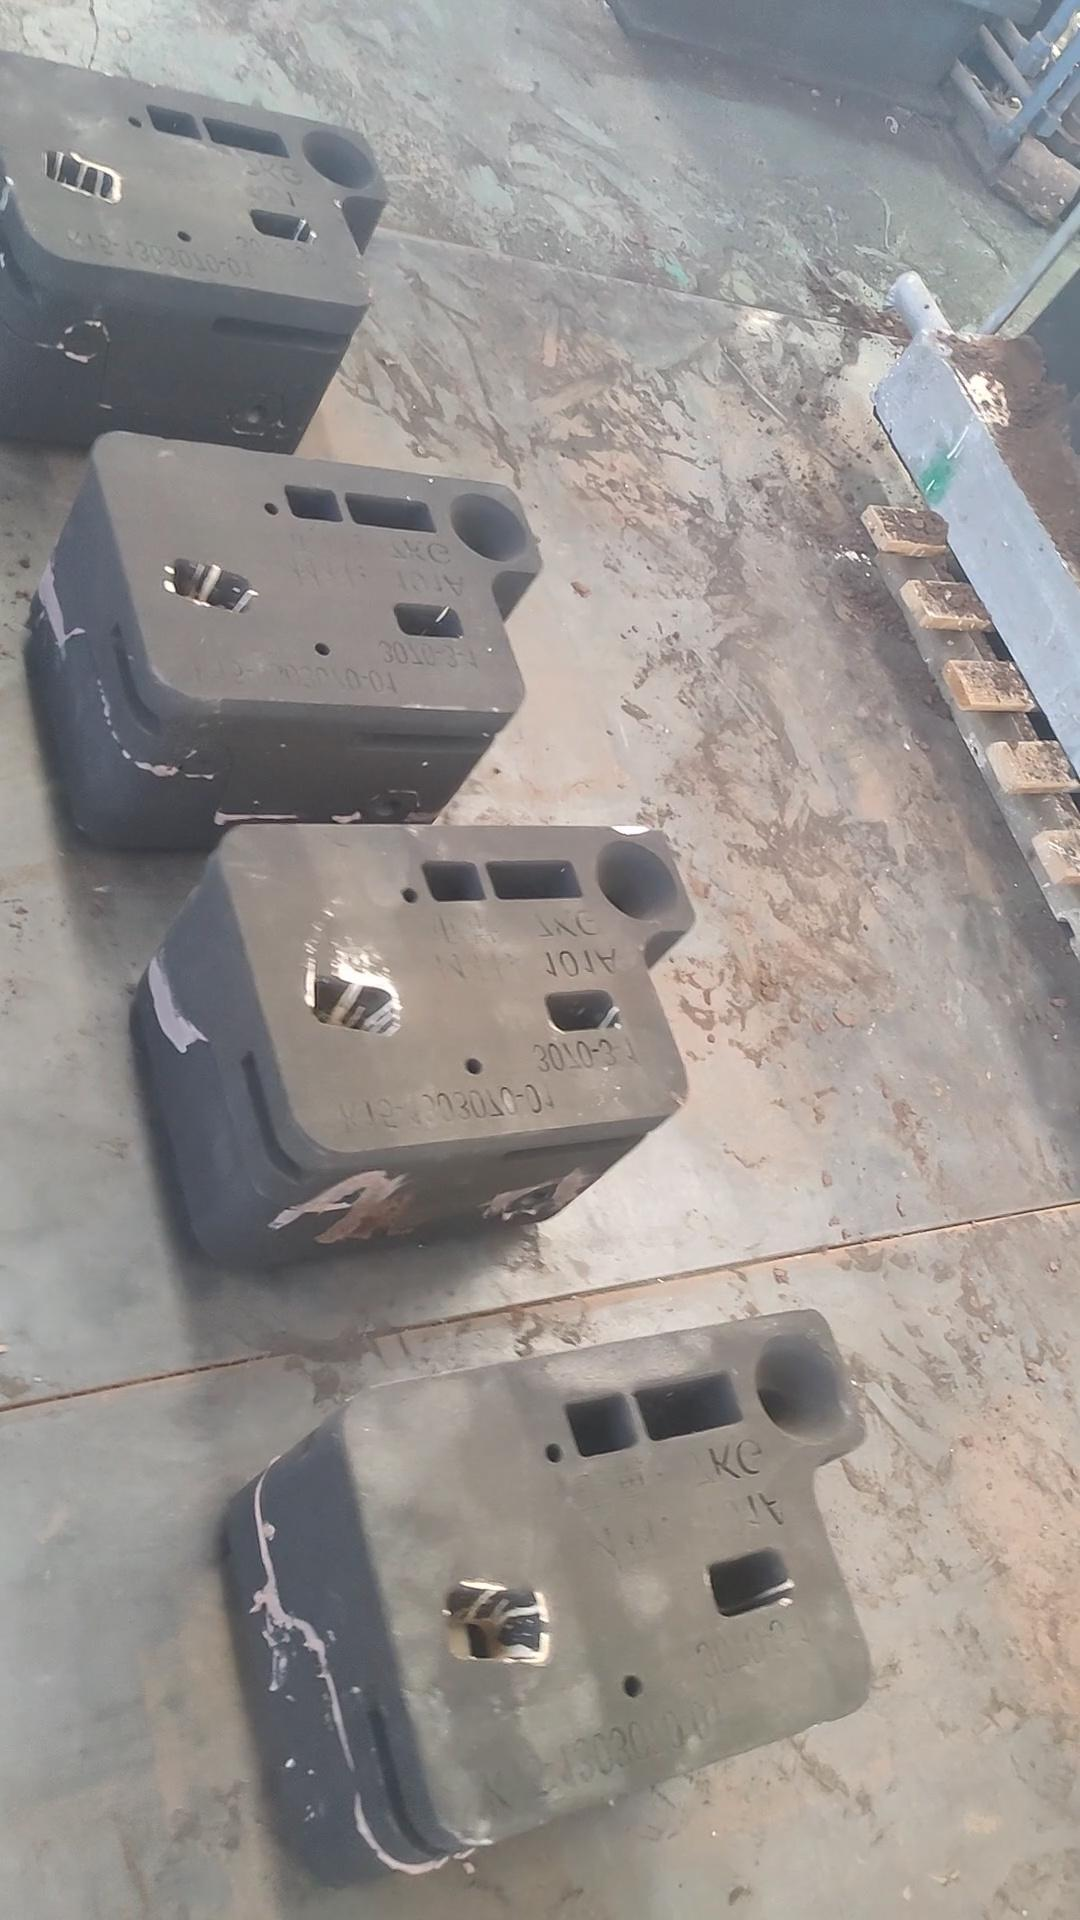pouring hole: (754, 1335, 847, 1444), (593, 840, 679, 923), (446, 493, 525, 560), (302, 131, 375, 190)
